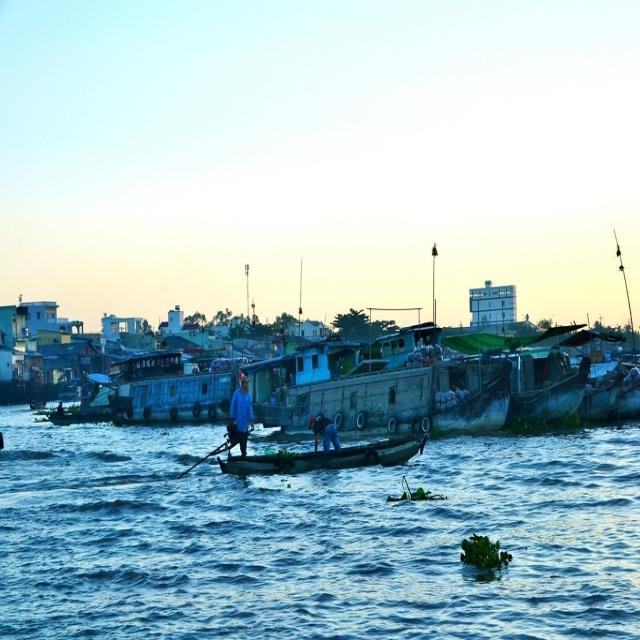Hyacinth: (454, 518, 508, 575)
boat: (214, 430, 436, 477)
